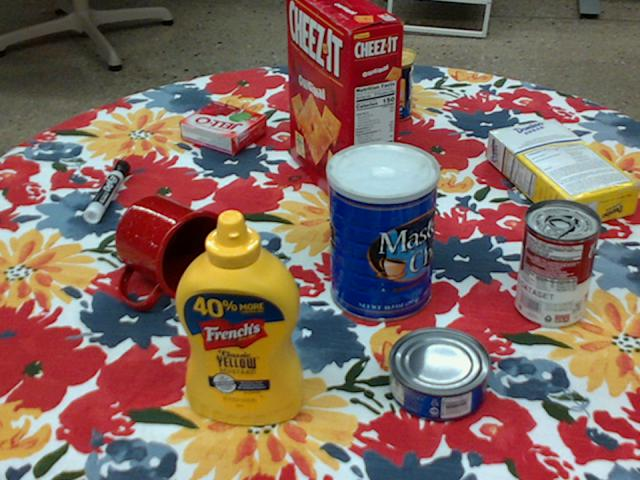cracker_box: (287, 0, 403, 211)
gelatin_box: (178, 101, 266, 155)
large_marker: (82, 159, 128, 222)
master_chef_can: (325, 141, 438, 323)
mug: (113, 195, 231, 308)
mustard_bottle: (173, 210, 302, 424)
potted_meat_can: (338, 43, 417, 119)
sugar_box: (488, 116, 639, 232)
tomato_soup_can: (516, 198, 599, 327)
tuna_fish_can: (385, 328, 487, 422)
